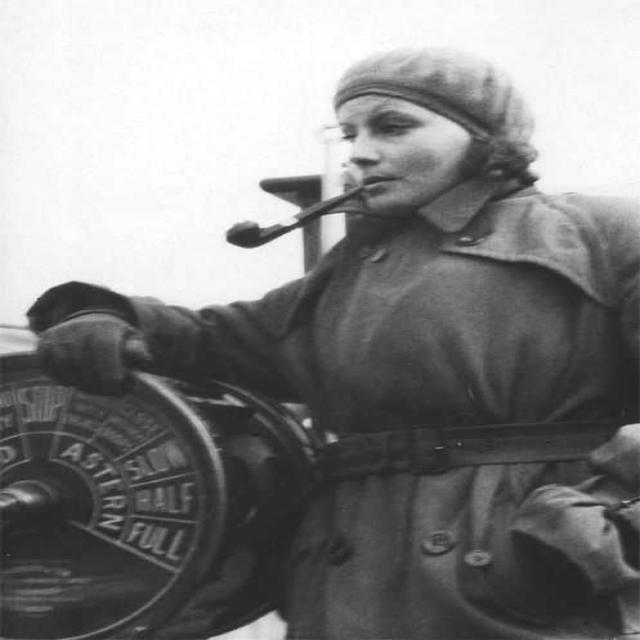Smooking: (211, 191, 400, 251)
